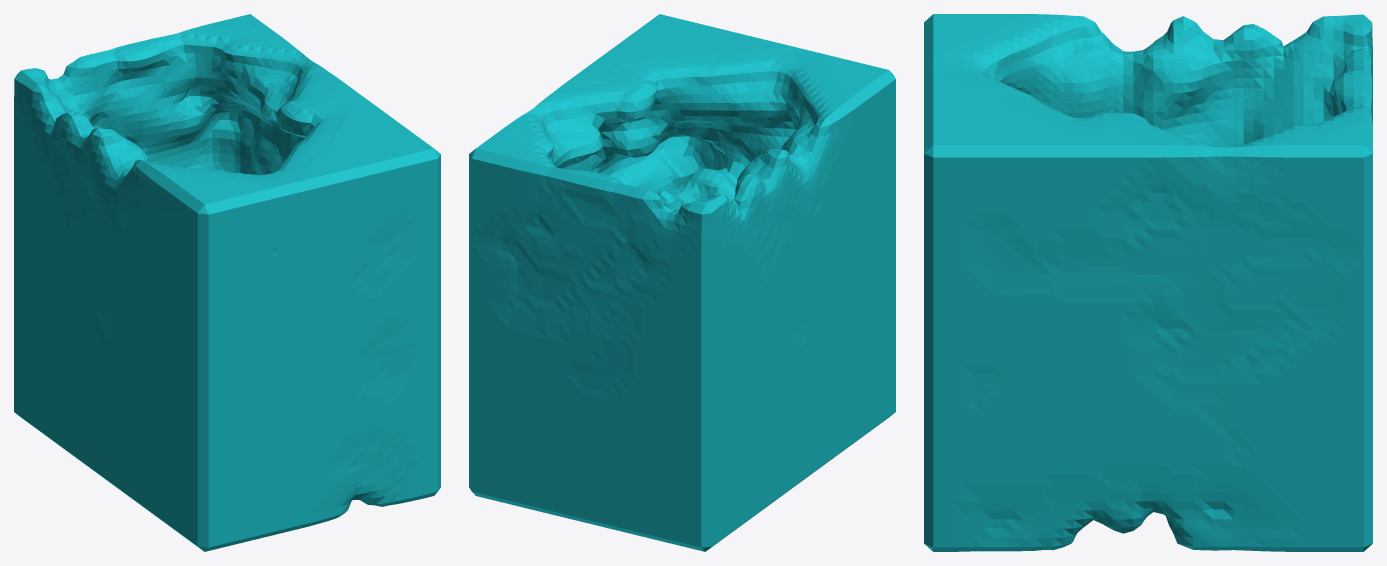
The picture shows the model from 3 angles, left to right: view 1: azimuth 30°, elevation 25°; view 2: azimuth 150°, elevation 25°; view 3: azimuth 270°, elevation 25°; orthographic projection. The views are drawn at different scales.
Visible parts, largest first — view 1: Liquid_Domain; view 2: Liquid_Domain; view 3: Liquid_Domain.
Part boxes in pixels (box(x1,y1,x2,y2)): Liquid_Domain: box(14, 14, 440, 551); Liquid_Domain: box(469, 14, 895, 551); Liquid_Domain: box(924, 14, 1372, 551).
Size of the model in its own units: 79.09 by 108 by 108.
